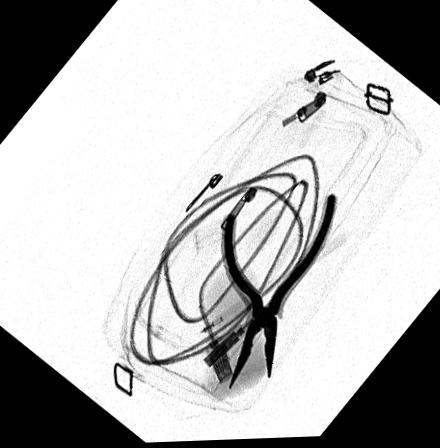Pliers: (221, 193, 338, 392)
